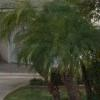Palm tree: (26, 7, 90, 95)
